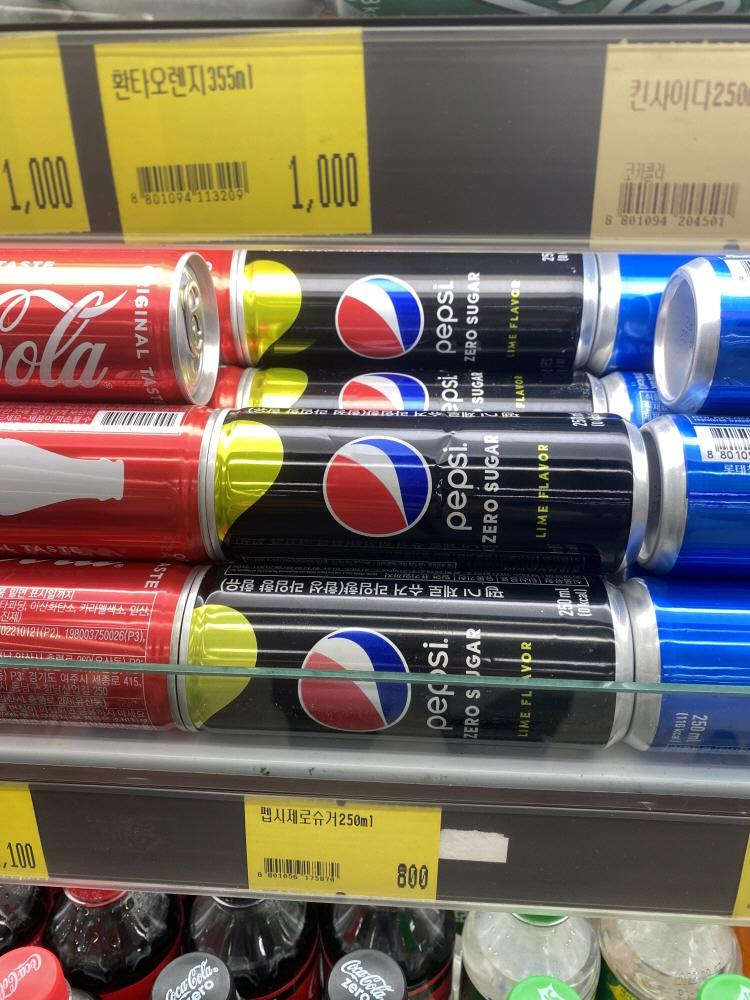pepsi_zero: (226, 235, 600, 368)
